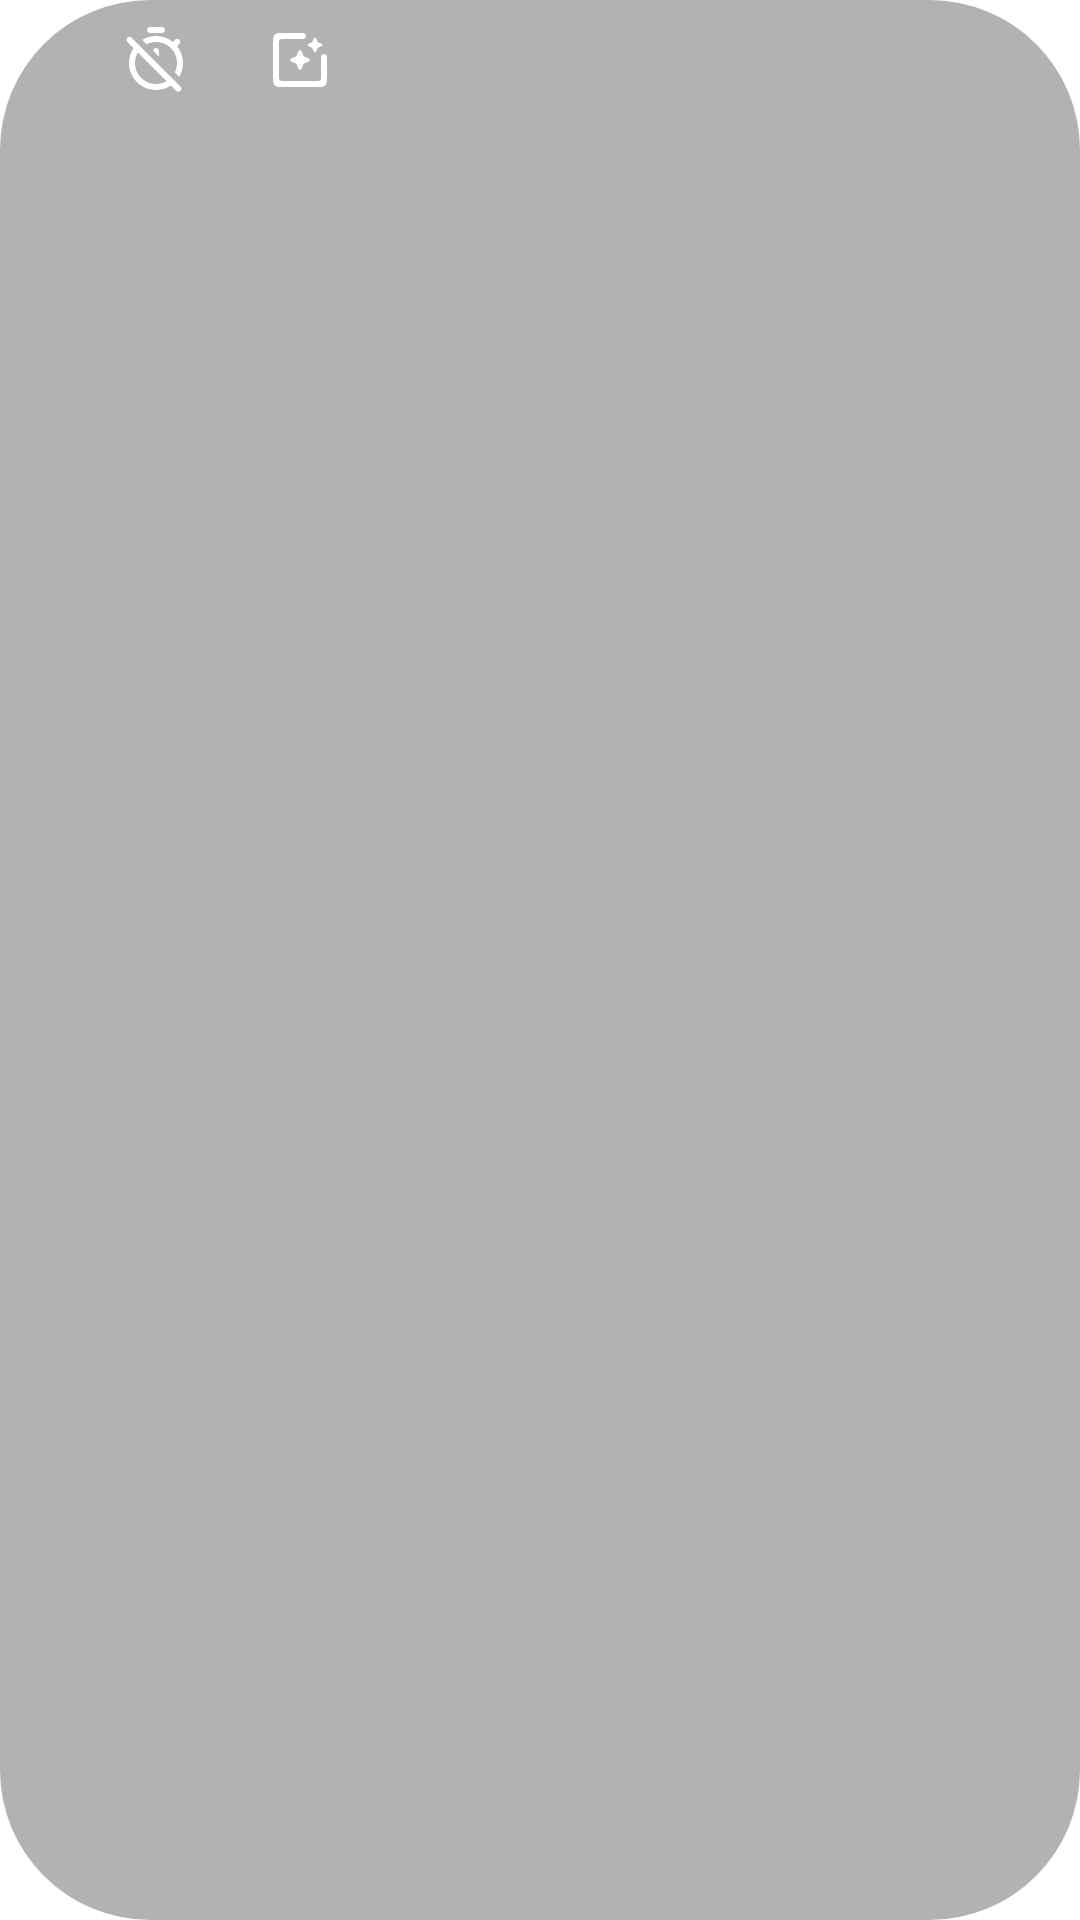

Icon bounding boxes for this 1080px×1920px phone screenshot, format (x1, y1, x2, y2):
timer off: (126, 27, 183, 92)
